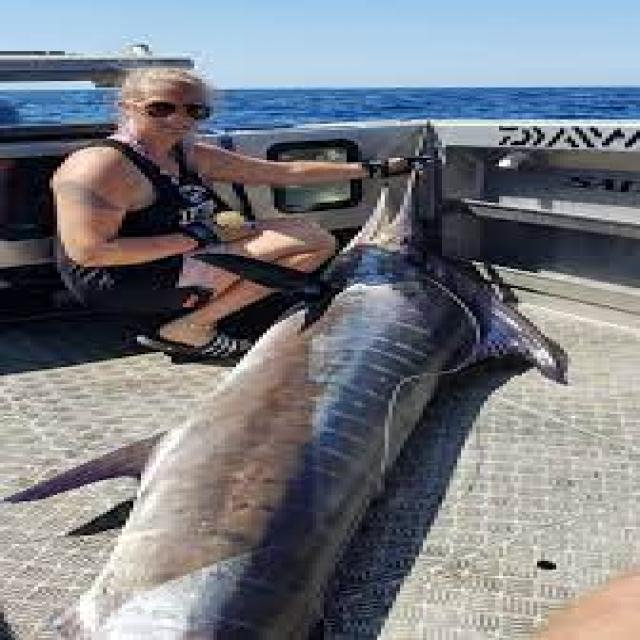Liberacion no segura: (4, 119, 568, 640)
